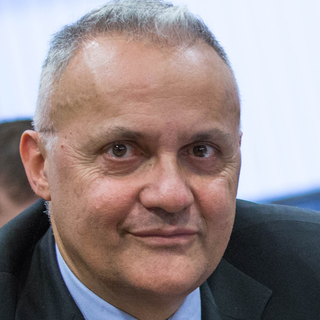eye: (95, 139, 144, 163), (181, 138, 223, 163)
